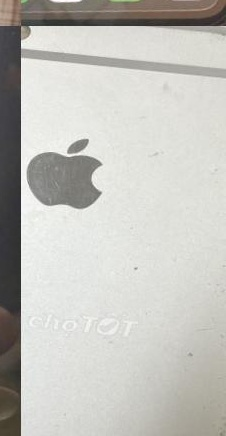scratch: (21, 110, 139, 233), (194, 133, 226, 436), (114, 26, 226, 75)
